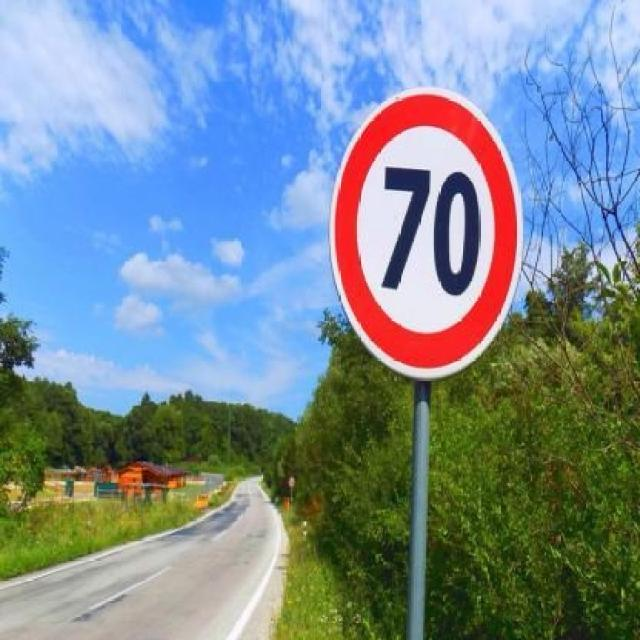forb_speed_over_70: (331, 90, 522, 373)
